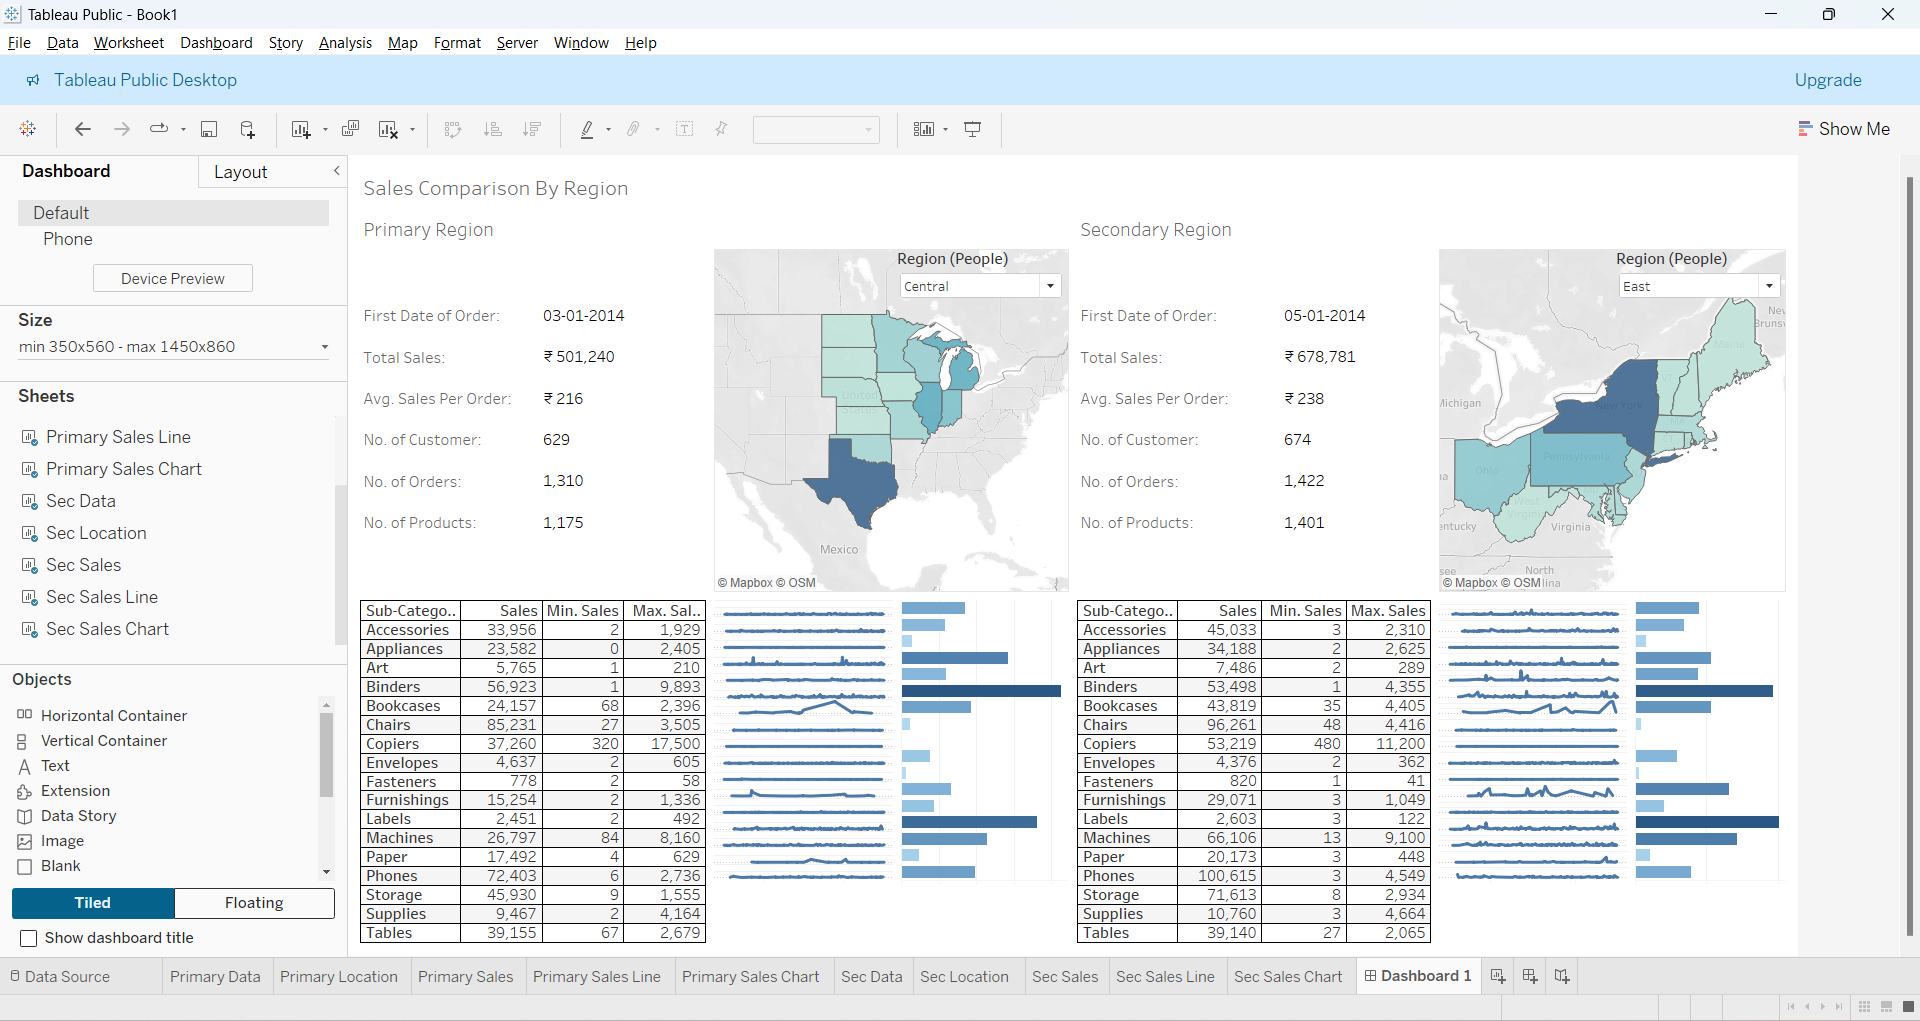

This screenshot's page, from the dashboard's own definition file:
{"tool":"tableau","page":{"name":"Dashboard 1","canvas":[1000,1000],"units":"permille","ordinal":0},"visuals":[{"type":"text","box":[5.5,10,989,63.6]},{"type":"text","box":[5.5,73.6,494.4,39.9]},{"type":"text","box":[499.9,73.6,494.6,39.9]},{"type":"text","box":[5.5,113.5,123.5,438.3]},{"type":"worksheet","title":"Primary Data","mark":"Automatic","box":[129,113.5,120.7,438.3]},{"type":"worksheet","title":"Primary Location","mark":"Automatic","box":[249.7,113.5,250.2,438.3]},{"type":"text","box":[499.9,113.5,140.1,438.3]},{"type":"worksheet","title":"Sec Data","mark":"Automatic","box":[640,113.5,109.7,438.3]},{"type":"worksheet","title":"Sec Location ","mark":"Automatic","box":[749.7,113.5,244.8,438.3]},{"type":"filter","title":"Primary Location","param":"[federated.0by81nu1xb06zt0zobqx31ioattp].[none:Region (People):nk]","box":[378.6,117.2,115.9,76.1]},{"type":"filter","title":"Sec Location ","param":"[federated.0by81nu1xb06zt0zobqx31ioattp].[none:Region (People):nk]","box":[874.5,117.2,115.9,81]},{"type":"worksheet","title":"Primary Sales","mark":"Automatic","rows":["Sub-Category"],"box":[5.5,551.7,244.1,438.3]},{"type":"worksheet","title":"Primary Sales Line","mark":"Automatic","rows":["Sub-Category","Sales"],"cols":["Order Date"],"box":[249.7,551.7,129,438.3]},{"type":"worksheet","title":"Primary Sales Chart","mark":"Automatic","rows":["Sub-Category"],"cols":["Sales"],"box":[378.6,551.7,121.2,438.3]},{"type":"worksheet","title":"Sec Sales","mark":"Automatic","rows":["Sub-Category"],"box":[499.9,551.7,249.8,438.3]},{"type":"worksheet","title":"Sec Sales Line","mark":"Automatic","rows":["Sub-Category","Sales"],"cols":["Order Date"],"box":[749.7,551.7,135.2,438.3]},{"type":"worksheet","title":"Sec Sales Chart","mark":"Automatic","rows":["Sub-Category"],"cols":["Sales"],"box":[884.8,551.7,109.7,438.3]}]}

Visuals, with their boxes on the dashboard's canvas, which has no fixed pixel size, in thousandths of its width and height (x1, y1, x2, y2). These are canvas units, not pixel positions in the 1920x1021 screenshot, which may show the page scaled, cropped or inside an application window:
text: 6,10,994,74
text: 6,74,500,114
text: 500,74,994,114
text: 6,114,129,552
"Primary Data" worksheet: 129,114,250,552
"Primary Location" worksheet: 250,114,500,552
text: 500,114,640,552
"Sec Data" worksheet: 640,114,750,552
"Sec Location " worksheet: 750,114,994,552
"Primary Location" filter: 379,117,494,193
"Sec Location " filter: 874,117,990,198
"Primary Sales" worksheet: 6,552,250,990
"Primary Sales Line" worksheet: 250,552,379,990
"Primary Sales Chart" worksheet: 379,552,500,990
"Sec Sales" worksheet: 500,552,750,990
"Sec Sales Line" worksheet: 750,552,885,990
"Sec Sales Chart" worksheet: 885,552,994,990
